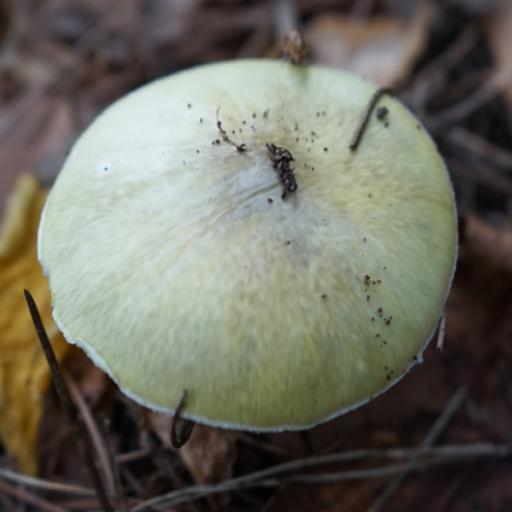mushroom: (5, 20, 491, 458)
